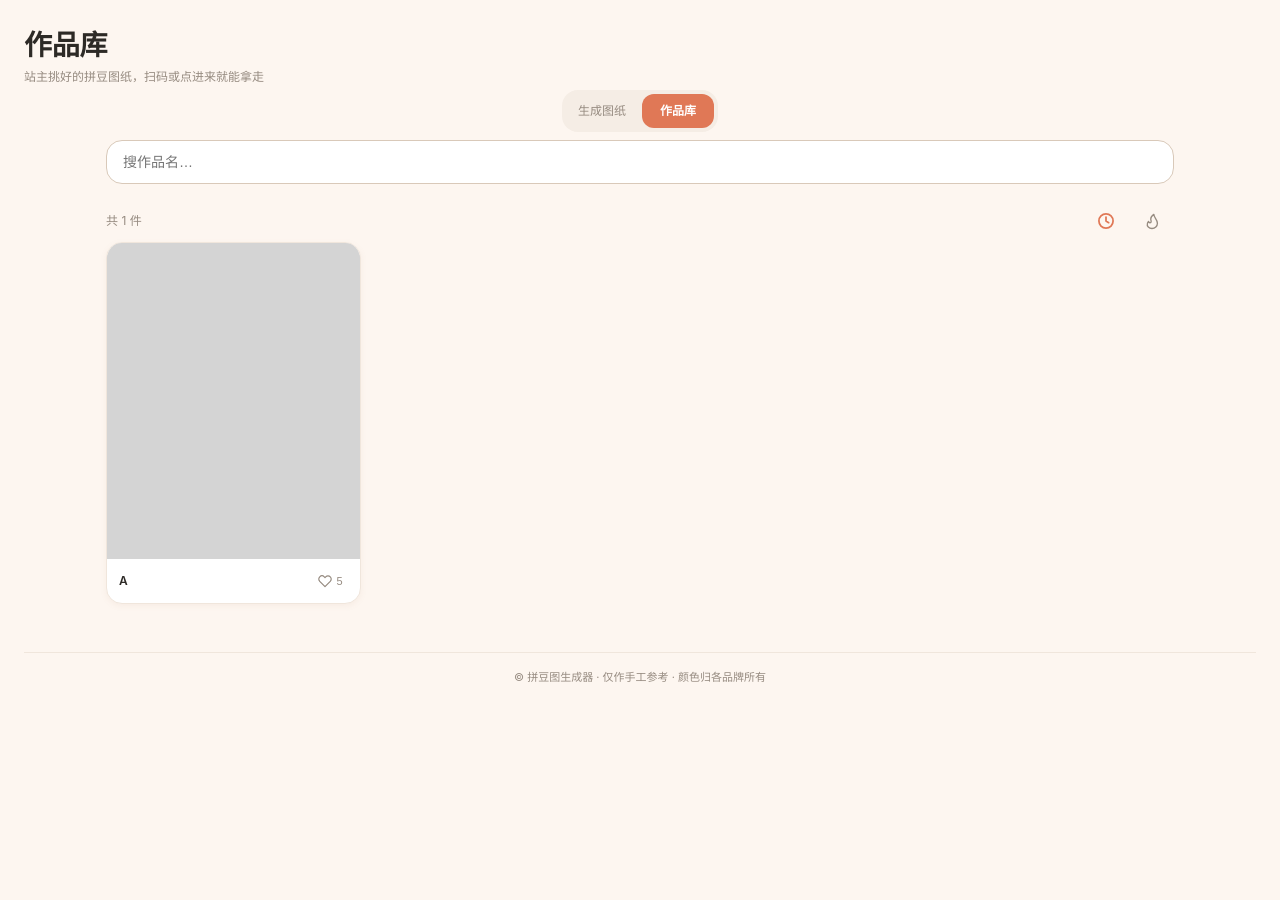
点赞按钮 › alreadyLiked=false（今天已经赞过）时数字不变、状态为已赞
Expected: the text "A" is shown, x1=119 y1=573 x2=128 y2=588
Step 1. Click the button named "5 次点赞" → click(330, 581), box x1=308 y1=559 x2=352 y2=603
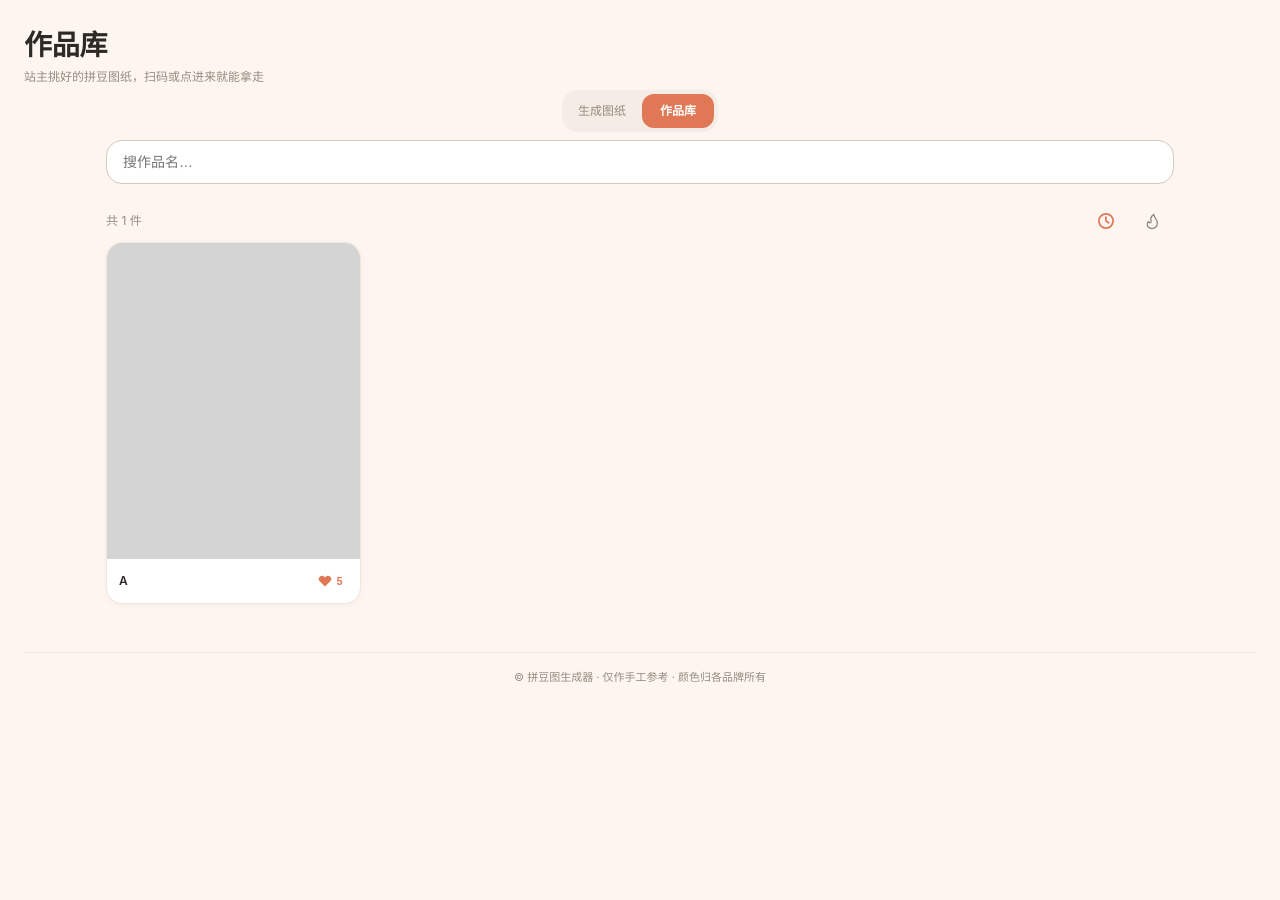
Expected: the button named "5 次点赞" is disabled, x1=308 y1=559 x2=352 y2=603
